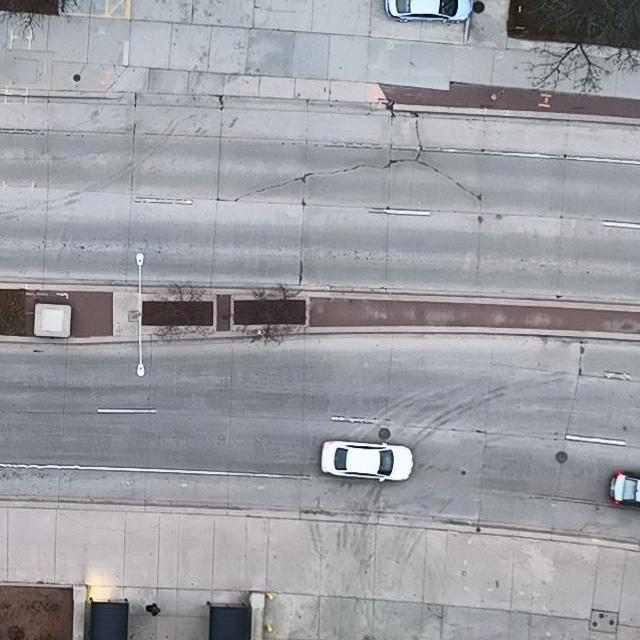car: (320, 440, 413, 482), (384, 0, 474, 23), (608, 470, 640, 508)
